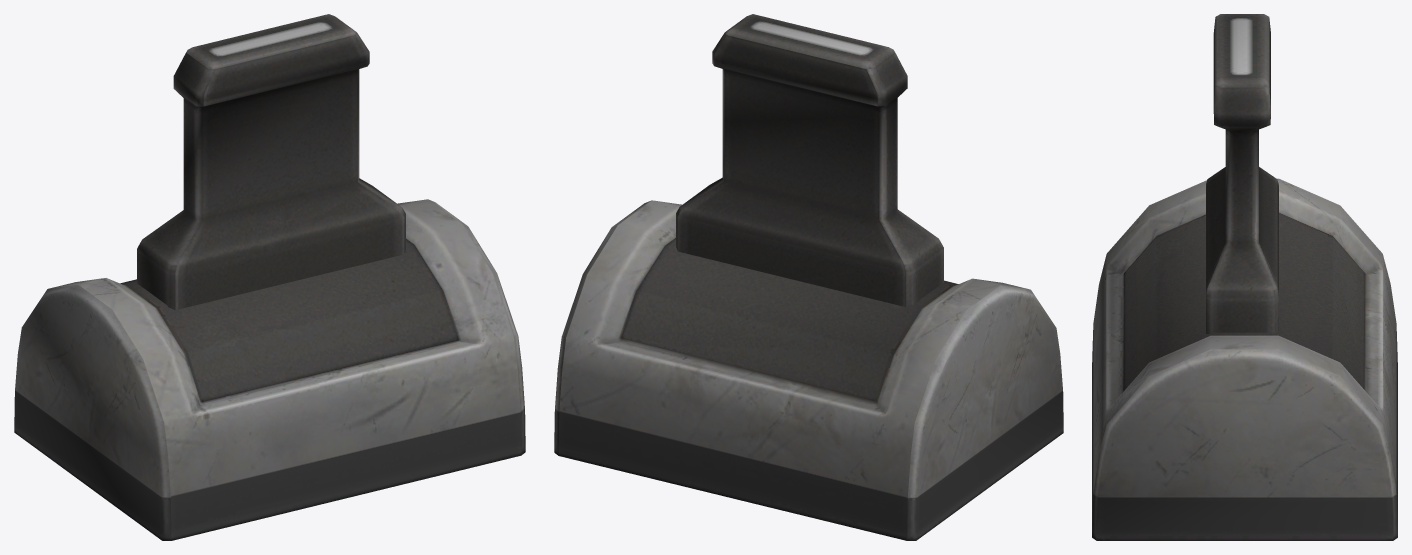
File: lever_small.dae
The picture shows the model from 3 angles, left to right: view 1: azimuth 30°, elevation 25°; view 2: azimuth 150°, elevation 25°; view 3: azimuth 270°, elevation 25°; orthographic projection.
Visible parts, largest first — view 1: base, lever; view 2: base, lever; view 3: base, lever.
Part boxes in pixels (x1,y1,x2,y2): base: (14, 199, 525, 540); lever: (137, 14, 405, 310); base: (554, 200, 1063, 540); lever: (676, 14, 943, 306); base: (1092, 178, 1397, 540); lever: (1206, 14, 1278, 333).
Size of the model in its own units: 0.0942 by 0.1002 by 0.0686.
